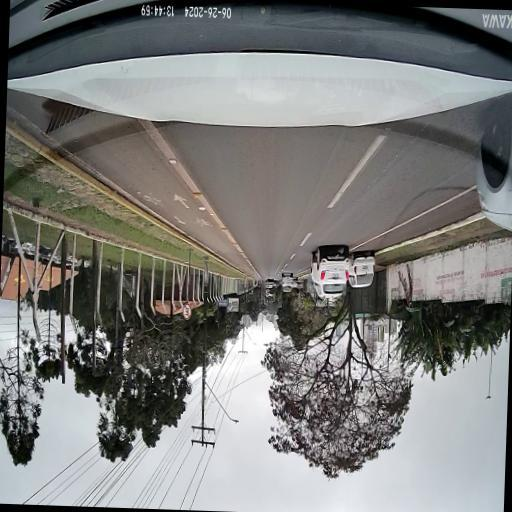R-6a: (181, 302, 190, 319)
